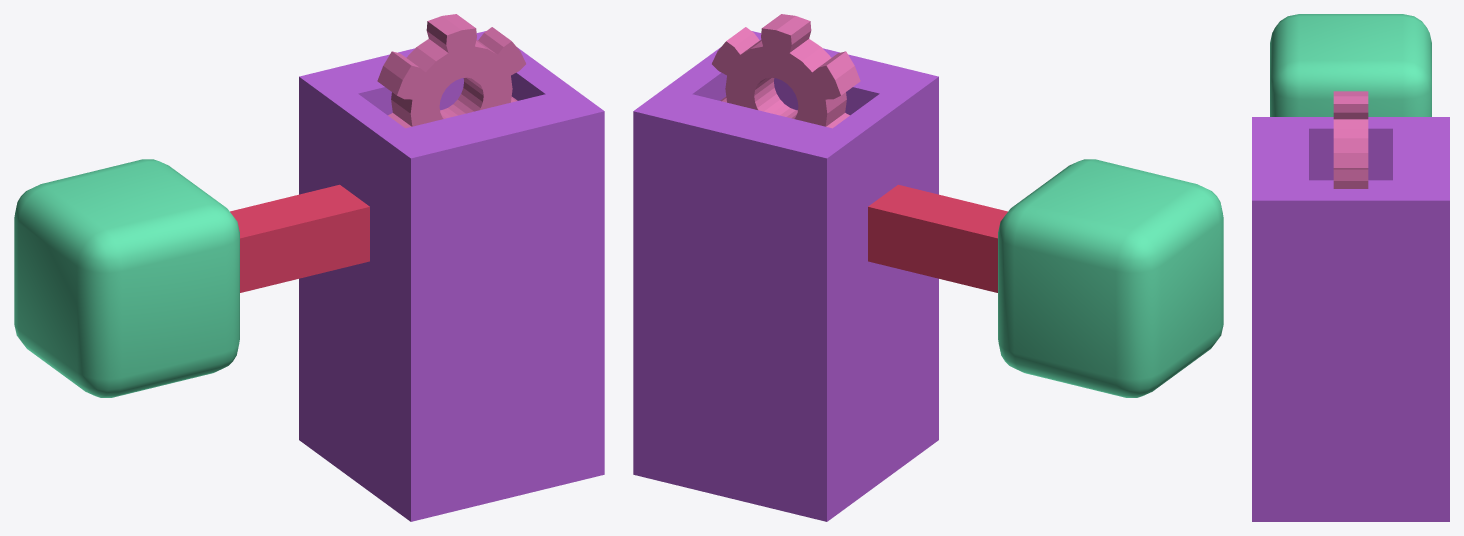
Rendered from trap_5.fbx.
The picture shows the model from 3 angles, left to right: view 1: azimuth 30°, elevation 25°; view 2: azimuth 150°, elevation 25°; view 3: azimuth 270°, elevation 25°; orthographic projection. The views are drawn at different scales.
Parts seen in each view (by area): view 1: Cube, Cube.002, Cube.001, Gear; view 2: Cube, Cube.002, Cube.001, Gear; view 3: Cube, Cube.002, Gear.
Part boxes in pixels (box(x1,y1,x2,y2)): Cube: box(299, 31, 604, 521); Cube.002: box(14, 159, 239, 397); Cube.001: box(230, 184, 369, 292); Gear: box(377, 14, 525, 128); Cube: box(633, 31, 938, 521); Cube.002: box(998, 159, 1223, 397); Cube.001: box(868, 184, 1007, 292); Gear: box(712, 14, 860, 128); Cube: box(1252, 117, 1449, 521); Cube.002: box(1270, 14, 1431, 116); Gear: box(1333, 91, 1368, 188).
Bounding box in the file's own units: 1592 × 1319 × 616.
